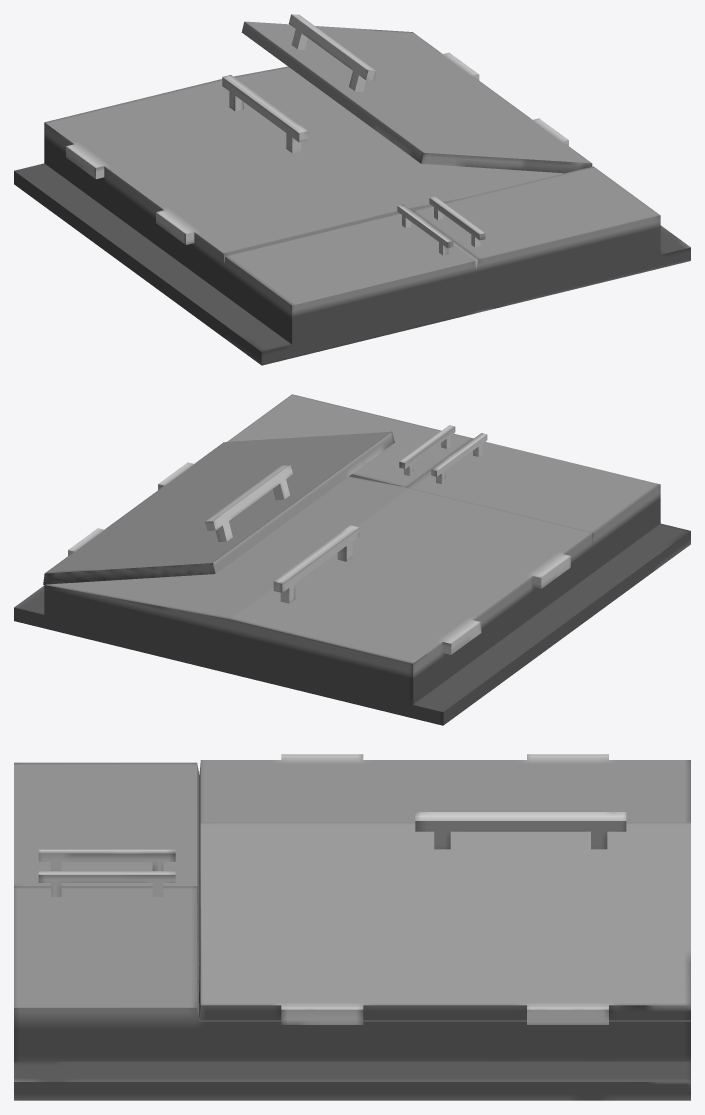
The model's file is Cabinet_A.fbx.
3 renders of one model, top to bottom at view 1: azimuth 30°, elevation 25°; view 2: azimuth 150°, elevation 25°; view 3: azimuth 270°, elevation 25°, orthographic. The views are drawn at different scales.
Visible parts, largest first — view 1: Cabinet_A; view 2: Cabinet_A; view 3: Cabinet_A.
Boxes of the visible parts, x1,y1,x2,y2 form: Cabinet_A: [14, 14, 690, 365]; Cabinet_A: [14, 394, 690, 725]; Cabinet_A: [14, 754, 690, 1100].
Bounding box in the file's own units: 200 × 55.85 × 200.
